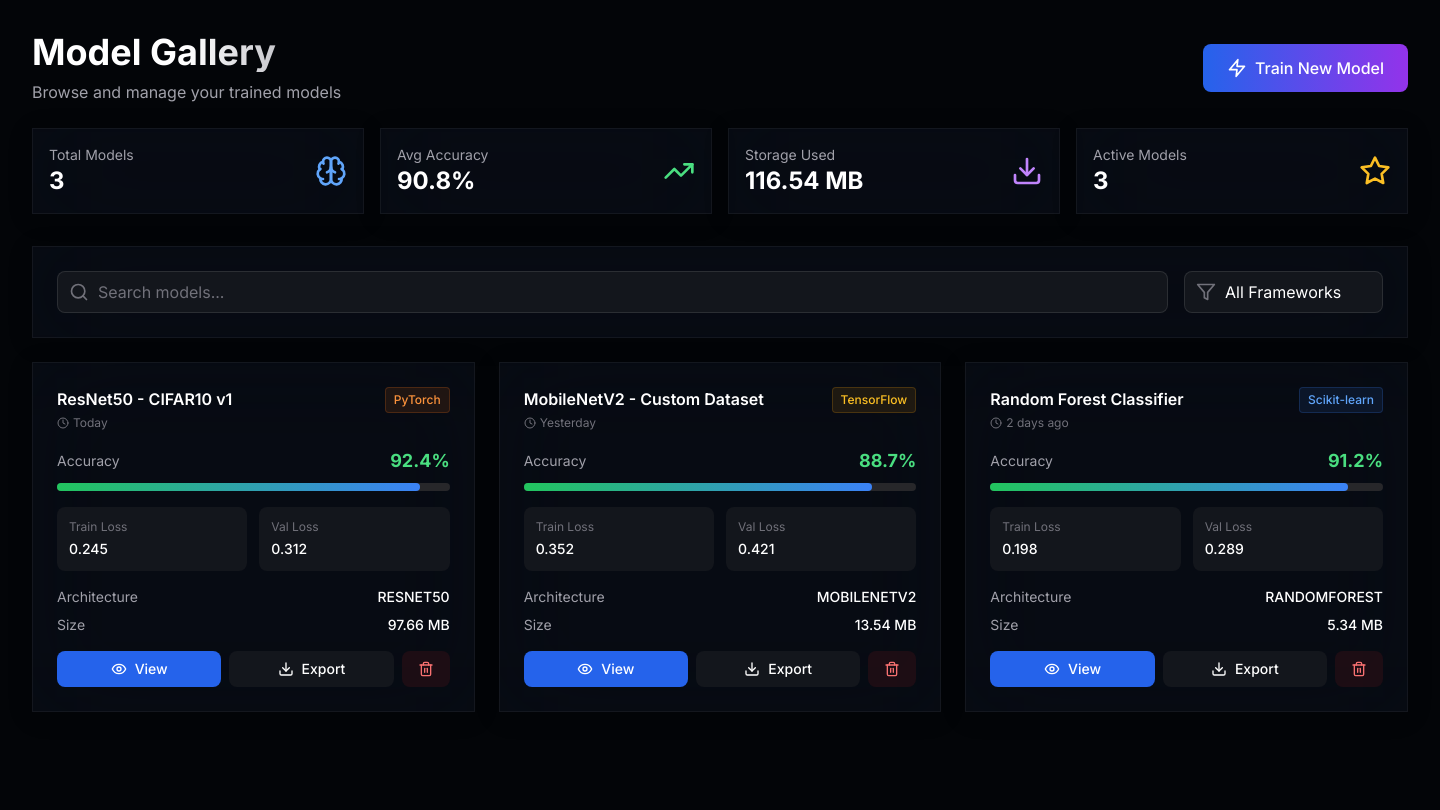
Scenario: Models Gallery Page › displays empty state when no models found
Search for non-existent model
In the field with placeholder "Search models...": (612, 292) [57,271,1168,313], type "NonExistentModel12345"
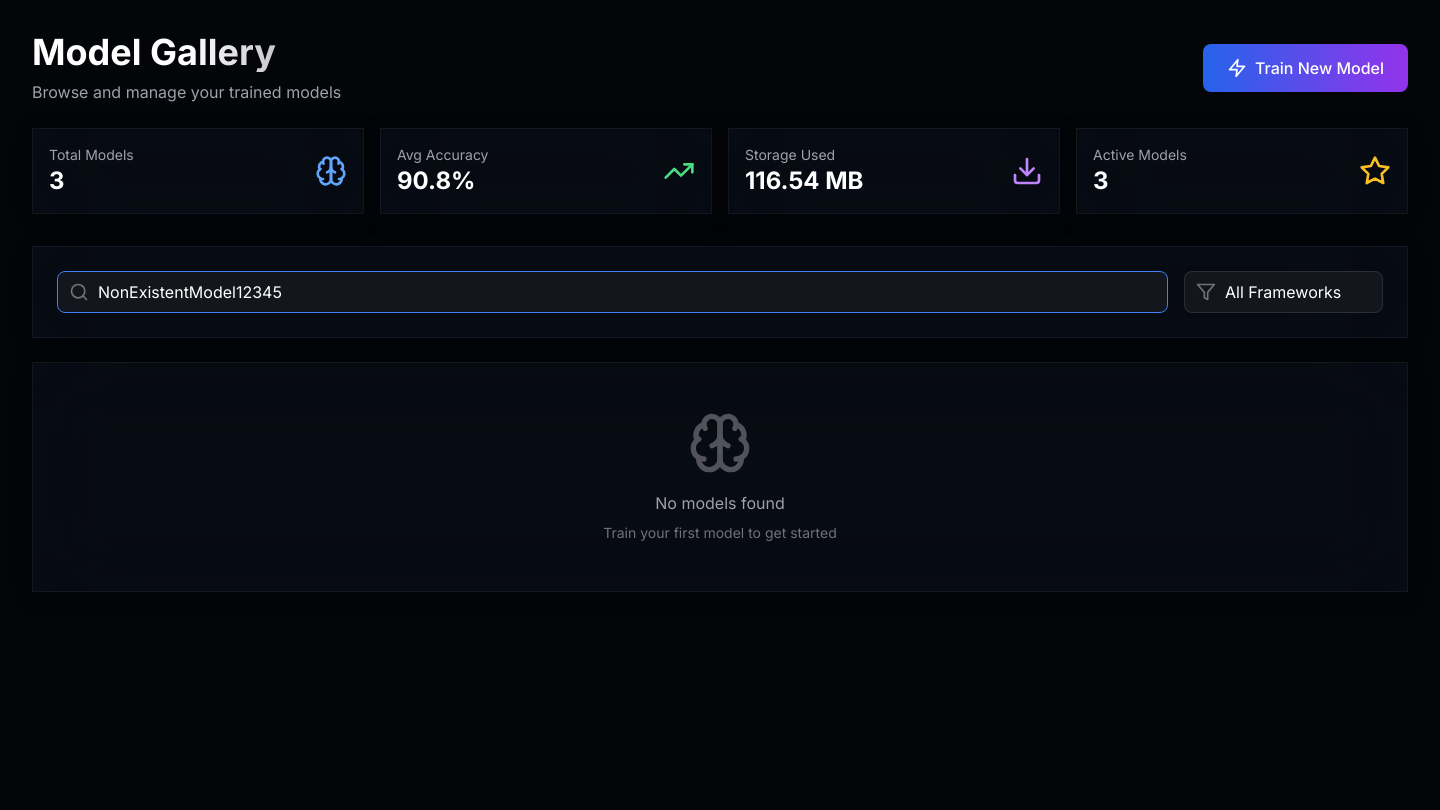
Check: the text "No models found" is shown, box [655,493,785,513]
